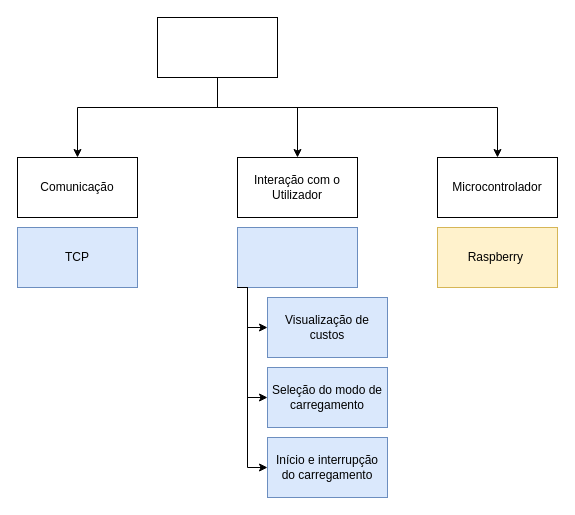
Image size: 575x515. Some labels were removed from this diagram. Here are the shapes that lost their labels. From the top down, the box of each, then its label:
(156, 16, 278, 78): Interface do Utilizador
(236, 226, 358, 288): Interface Local / App
